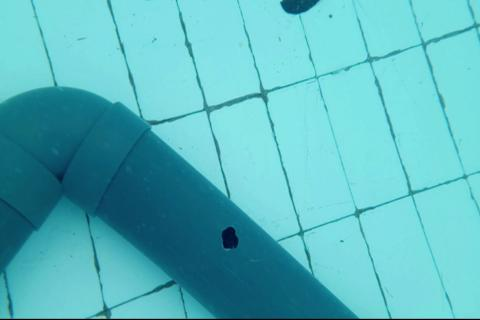kebocoran: (220, 225, 239, 251)
